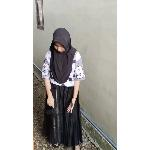Senapan: (44, 85, 64, 143)
